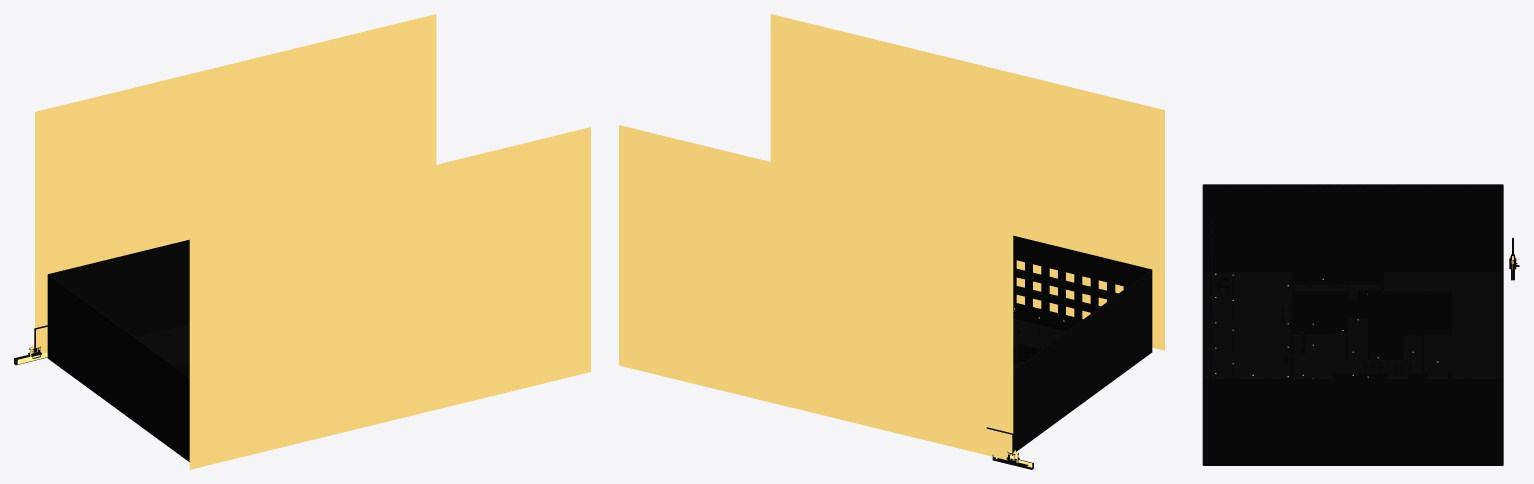
Rendered from level.gltf.
3 views of the same model, side by side, from view 1: azimuth 30°, elevation 25°; view 2: azimuth 150°, elevation 25°; view 3: azimuth 270°, elevation 25° (orthographic). The views are drawn at different scales.
Visible parts, largest first — view 1: SCENE_GRID; view 2: SCENE_GRID; view 3: SCENE_GRID.
Boxes of the visible parts, x1,y1,x2,y2 form: SCENE_GRID: [35, 14, 590, 469]; SCENE_GRID: [619, 14, 1164, 460]; SCENE_GRID: [1202, 184, 1503, 465].
Size of what is drawn, in the model's own units: 126 by 70.8 by 81.7.
Materials: 2 (2 with a texture image).
